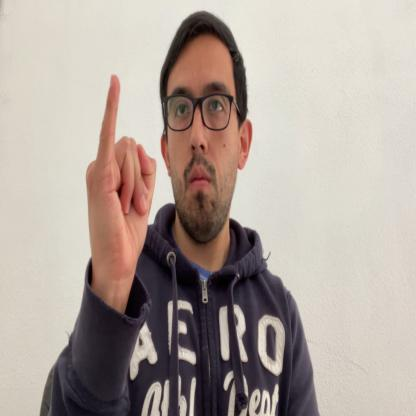I: (86, 72, 157, 290)
